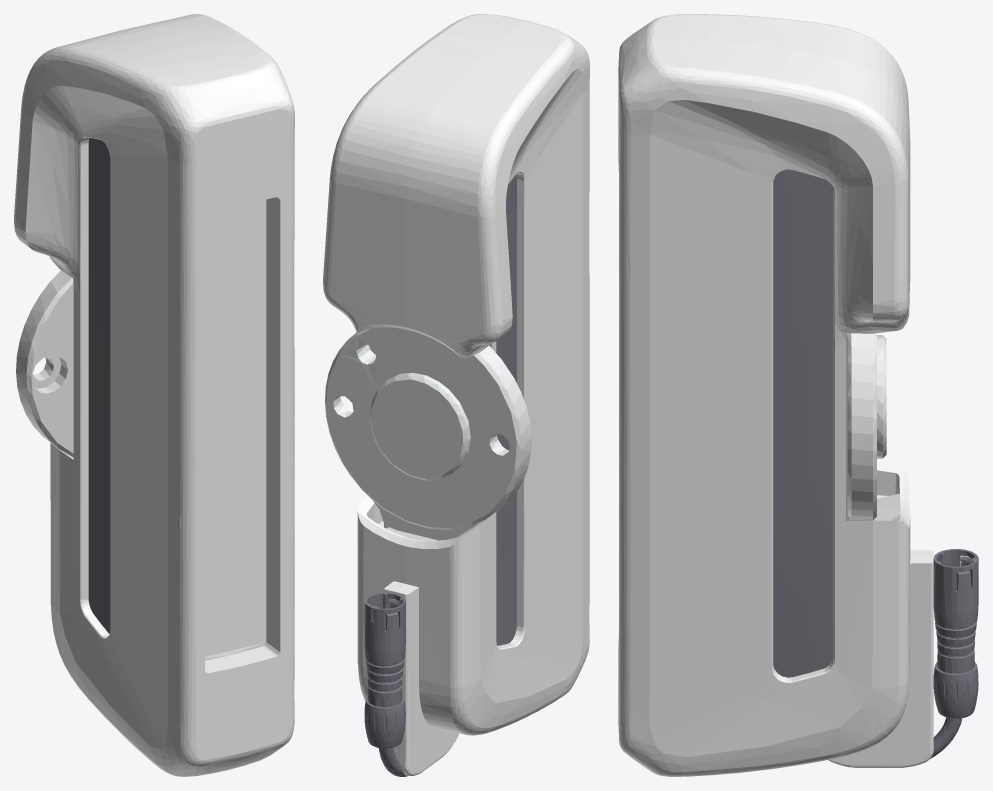
File: hand.glb
The picture shows the model from 3 angles, left to right: view 1: azimuth 30°, elevation 25°; view 2: azimuth 150°, elevation 25°; view 3: azimuth 270°, elevation 25°; orthographic projection. The views are drawn at different scales.
Visible parts, largest first — view 1: node5_Part__Feature005.001, node5_001_Part__Feature005.002, node2_Part__Feature002.005; view 2: node5_Part__Feature005.001, node2_Part__Feature002.005, node0_Part__Feature.009, node5_001_Part__Feature005.002; view 3: node5_Part__Feature005.001, node5_001_Part__Feature005.002, node0_Part__Feature.009, node2_Part__Feature002.005, node1_Part__Feature001.007.
Boxes of the visible parts, x1=… form: node5_Part__Feature005.001: x1=14, y1=14, x2=294, y2=776; node5_001_Part__Feature005.002: x1=88, y1=138, x2=110, y2=633; node2_Part__Feature002.005: x1=16, y1=270, x2=73, y2=457; node5_Part__Feature005.001: x1=323, y1=14, x2=589, y2=775; node2_Part__Feature002.005: x1=325, y1=327, x2=531, y2=540; node0_Part__Feature.009: x1=364, y1=592, x2=405, y2=748; node5_001_Part__Feature005.002: x1=496, y1=175, x2=516, y2=645; node5_Part__Feature005.001: x1=618, y1=14, x2=933, y2=776; node5_001_Part__Feature005.002: x1=773, y1=170, x2=833, y2=677; node0_Part__Feature.009: x1=933, y1=549, x2=978, y2=718; node2_Part__Feature002.005: x1=846, y1=333, x2=886, y2=520; node1_Part__Feature001.007: x1=930, y1=717, x2=962, y2=758.
Size of the model in its own units: 0.063 by 0.2045 by 0.0919.
5 materials, 4 textured.
